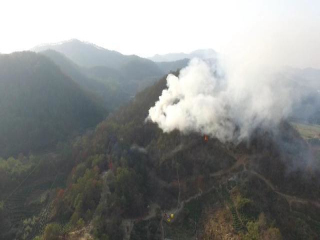smoke: (146, 18, 315, 154)
